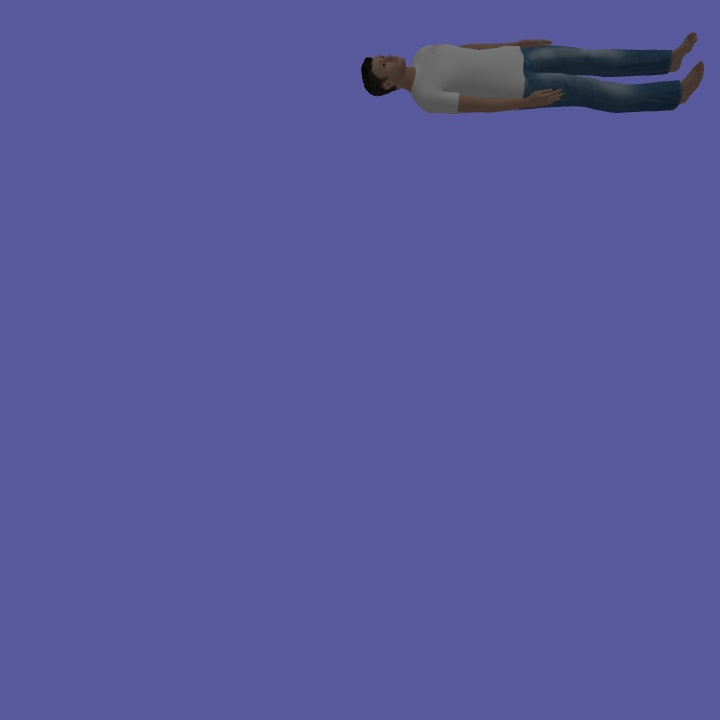victim: (361, 29, 711, 121)
